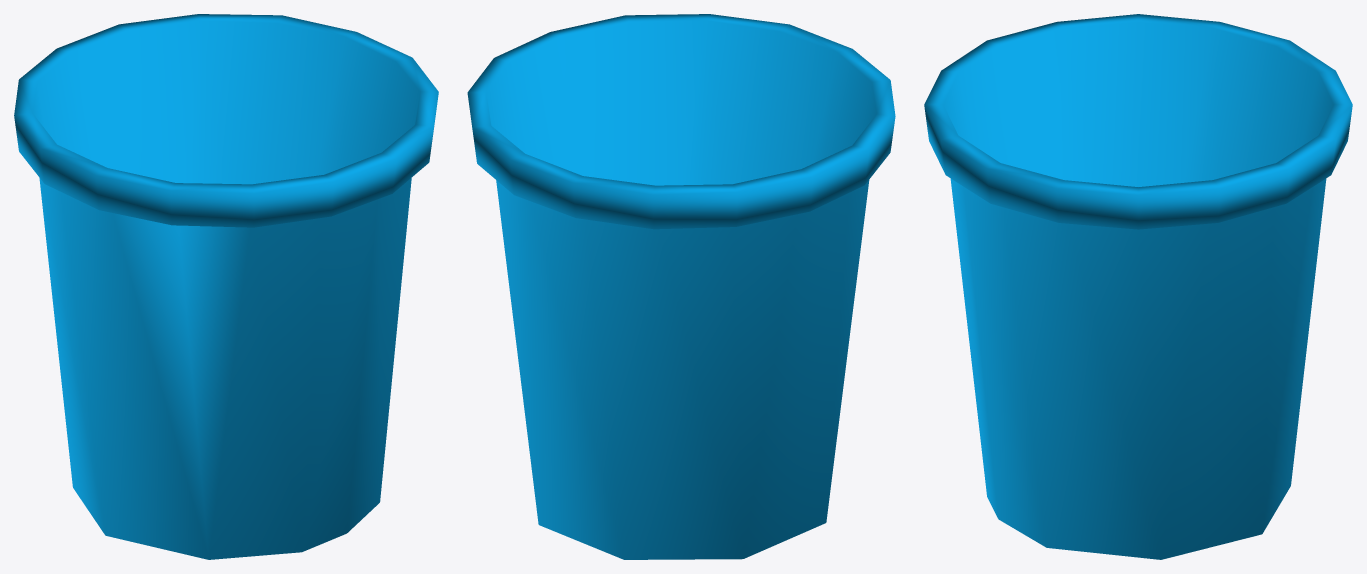
Rendered from hink.fbx.
3 renders of one model, left to right at view 1: azimuth 30°, elevation 25°; view 2: azimuth 150°, elevation 25°; view 3: azimuth 270°, elevation 25°, orthographic.
Parts seen in each view (by area): view 1: Circle; view 2: Circle; view 3: Circle.
Part boxes in pixels (left/top/right/bottom): Circle: left=14, top=14, right=438, bottom=559; Circle: left=467, top=14, right=895, bottom=559; Circle: left=924, top=14, right=1352, bottom=559.
Bounding box in the file's own units: 236 × 239 × 236.
